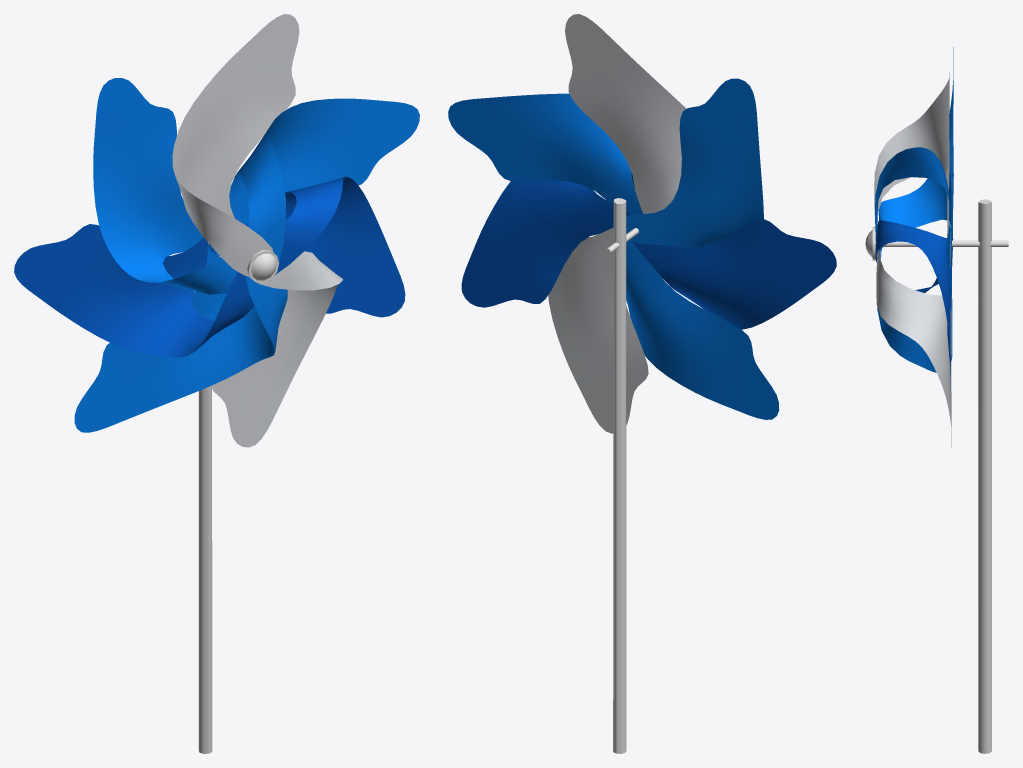
File: WindWheel.fbx
The picture shows the model from 3 angles, left to right: view 1: azimuth 30°, elevation 25°; view 2: azimuth 150°, elevation 25°; view 3: azimuth 270°, elevation 25°; orthographic projection. The views are drawn at different scales.
Parts seen in each view (by area): view 1: WindWheelBlades, WindWheelStick; view 2: WindWheelBlades, WindWheelStick; view 3: WindWheelBlades, WindWheelStick.
Boxes of the visible parts, box(x1,y1,x2,y2) form: WindWheelBlades: box(14, 14, 419, 447); WindWheelStick: box(198, 250, 279, 753); WindWheelBlades: box(448, 14, 836, 433); WindWheelStick: box(605, 198, 638, 753); WindWheelBlades: box(874, 47, 953, 447); WindWheelStick: box(865, 199, 1008, 753).
Size of the model in its own units: 16.04 by 27.9 by 5.11.
